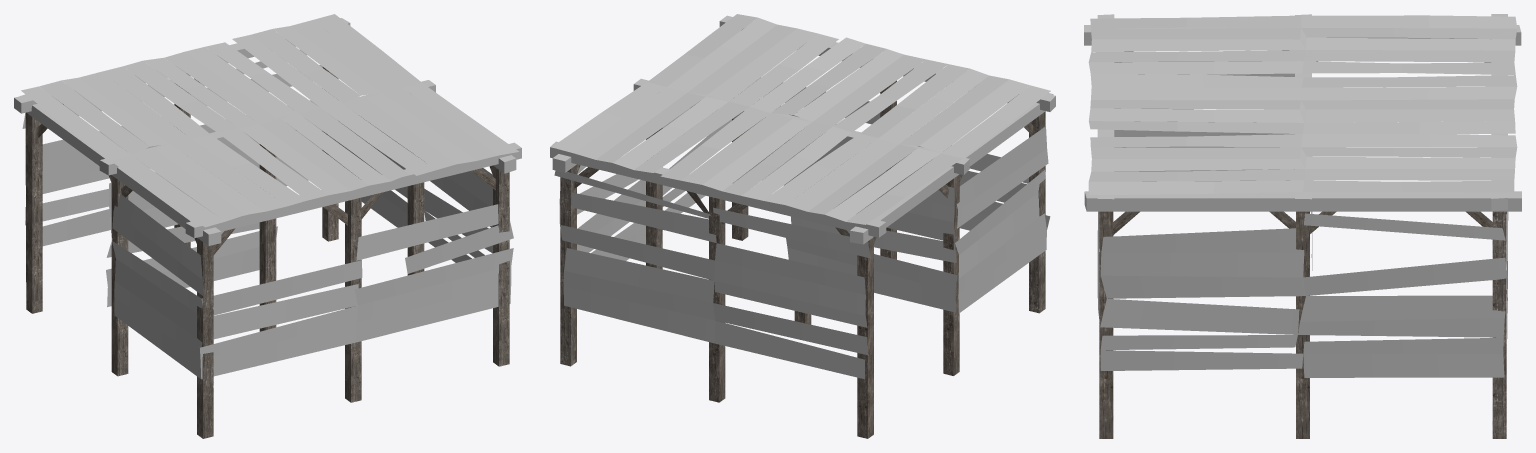
File: Shed5_LOD2.fbx
3 renders of one model, left to right at view 1: azimuth 30°, elevation 25°; view 2: azimuth 150°, elevation 25°; view 3: azimuth 270°, elevation 25°, orthographic. The views are drawn at different scales.
Parts seen in each view (by area): view 1: polySurface2651; view 2: polySurface2651; view 3: polySurface2651.
Part boxes in pixels (box(x1,y1,x2,y2)): polySurface2651: box(14, 14, 521, 438); polySurface2651: box(550, 14, 1055, 438); polySurface2651: box(1084, 14, 1521, 438).
Bounding box in the file's own units: 7.08 × 4.48 × 7.08.
